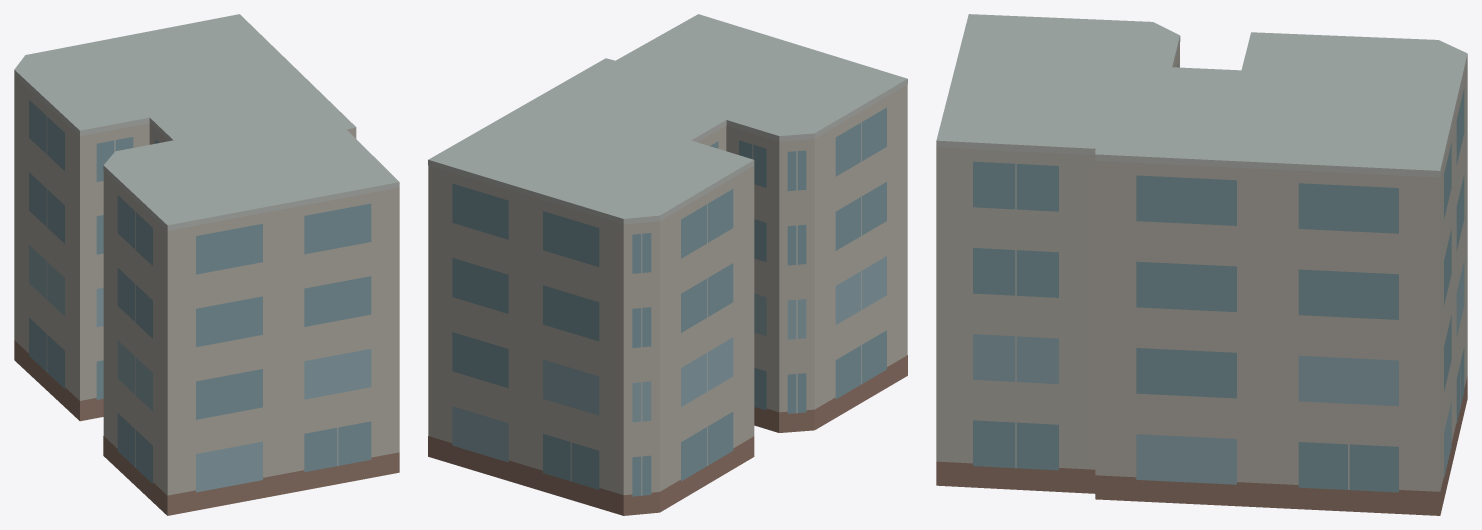
The model's file is survey-upis-32500582.glb.
The picture shows the model from 3 angles, left to right: view 1: azimuth 30°, elevation 25°; view 2: azimuth 150°, elevation 25°; view 3: azimuth 270°, elevation 25°; orthographic projection. The views are drawn at different scales.
Parts seen in each view (by area): view 1: survey-upis-32500582.tmp; view 2: survey-upis-32500582.tmp; view 3: survey-upis-32500582.tmp.
Boxes of the visible parts, bbox=[...] form: survey-upis-32500582.tmp: bbox=[14, 14, 399, 515]; survey-upis-32500582.tmp: bbox=[428, 14, 907, 515]; survey-upis-32500582.tmp: bbox=[936, 14, 1467, 515].
Size of the model in its own units: 12.69 by 13 by 18.16.
